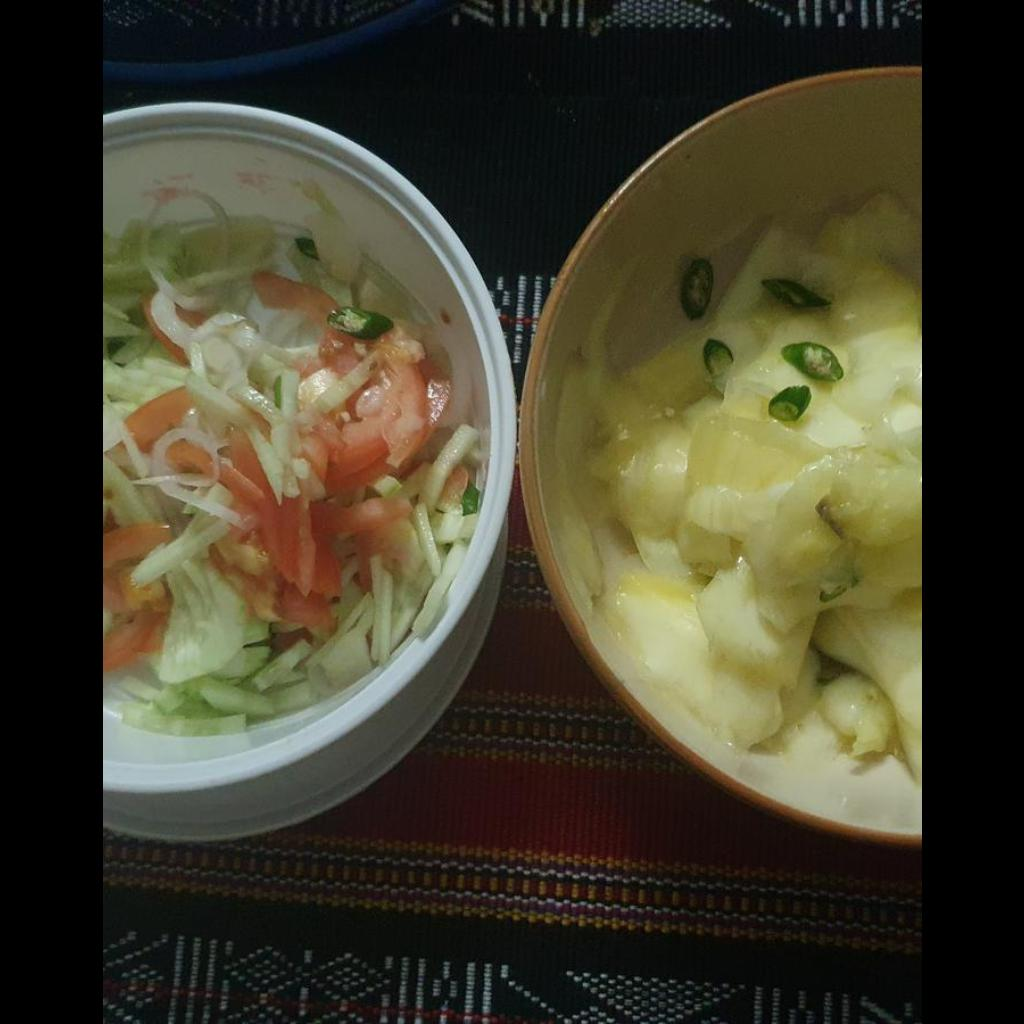salad: (104, 219, 480, 732)
vorta: (583, 187, 920, 781)
